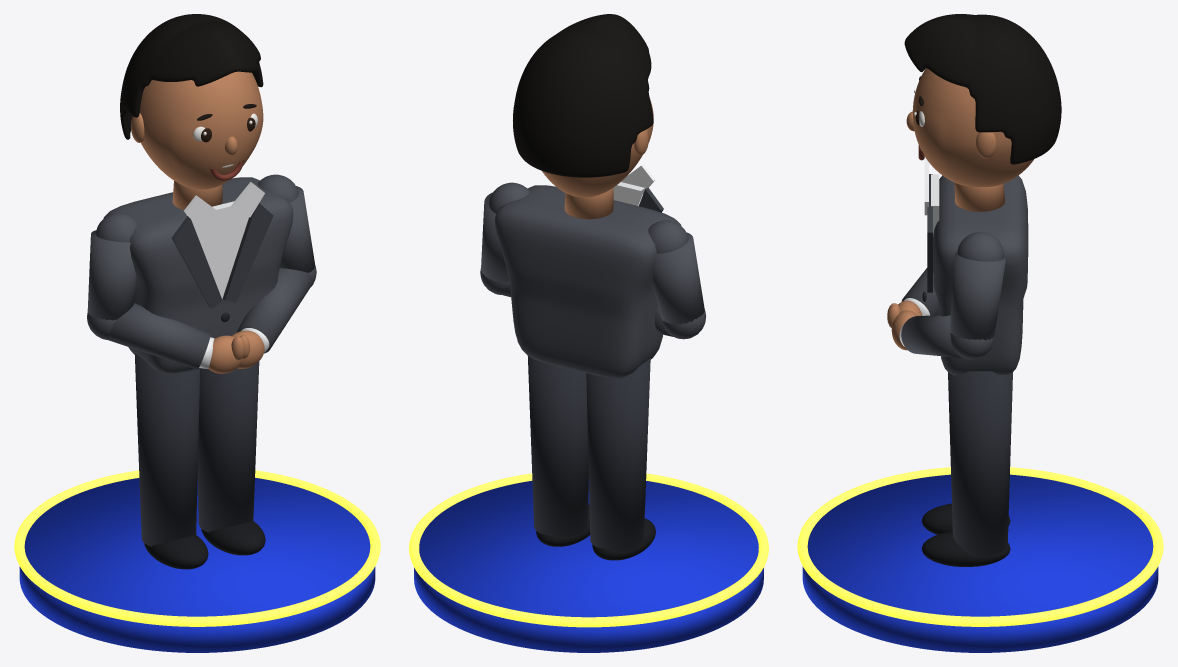
File: brill-3d.glb
The picture shows the model from 3 angles, left to right: view 1: azimuth 30°, elevation 25°; view 2: azimuth 150°, elevation 25°; view 3: azimuth 270°, elevation 25°; orthographic projection.
Visible parts, largest first — view 1: Plinth, Body, Head, ArmL, Hair, ArmR; view 2: Body, Plinth, Hair, ArmL, ArmR, Head; view 3: Plinth, Body, Hair, ArmR, Head, ArmL.
Part boxes in pixels (box(x1,y1,x2,y2)): Plinth: box(14, 470, 380, 652); Body: box(103, 177, 293, 569); Head: box(131, 71, 263, 189); ArmL: box(87, 213, 243, 373); Hair: box(120, 14, 263, 139); ArmR: box(232, 174, 316, 368); Body: box(495, 164, 681, 560); Plinth: box(409, 473, 768, 652); Hair: box(513, 14, 653, 177); ArmL: box(648, 220, 706, 339); ArmR: box(480, 182, 529, 297); Head: box(542, 97, 653, 197); Plinth: box(797, 467, 1163, 652); Body: box(921, 156, 1028, 566); Hair: box(904, 14, 1061, 164); ArmR: box(887, 232, 1005, 359); Head: box(906, 68, 1033, 186); ArmL: box(887, 268, 937, 315).
Size of the model in its own units: 1.28 by 2.15 by 1.28.
